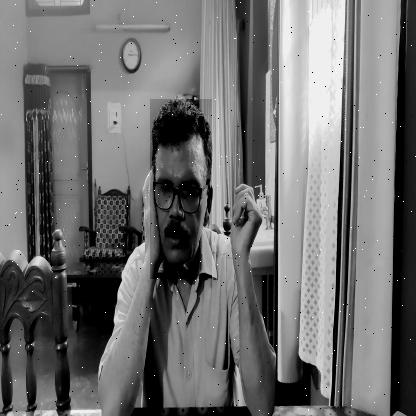Normal: (150, 100, 212, 280)
